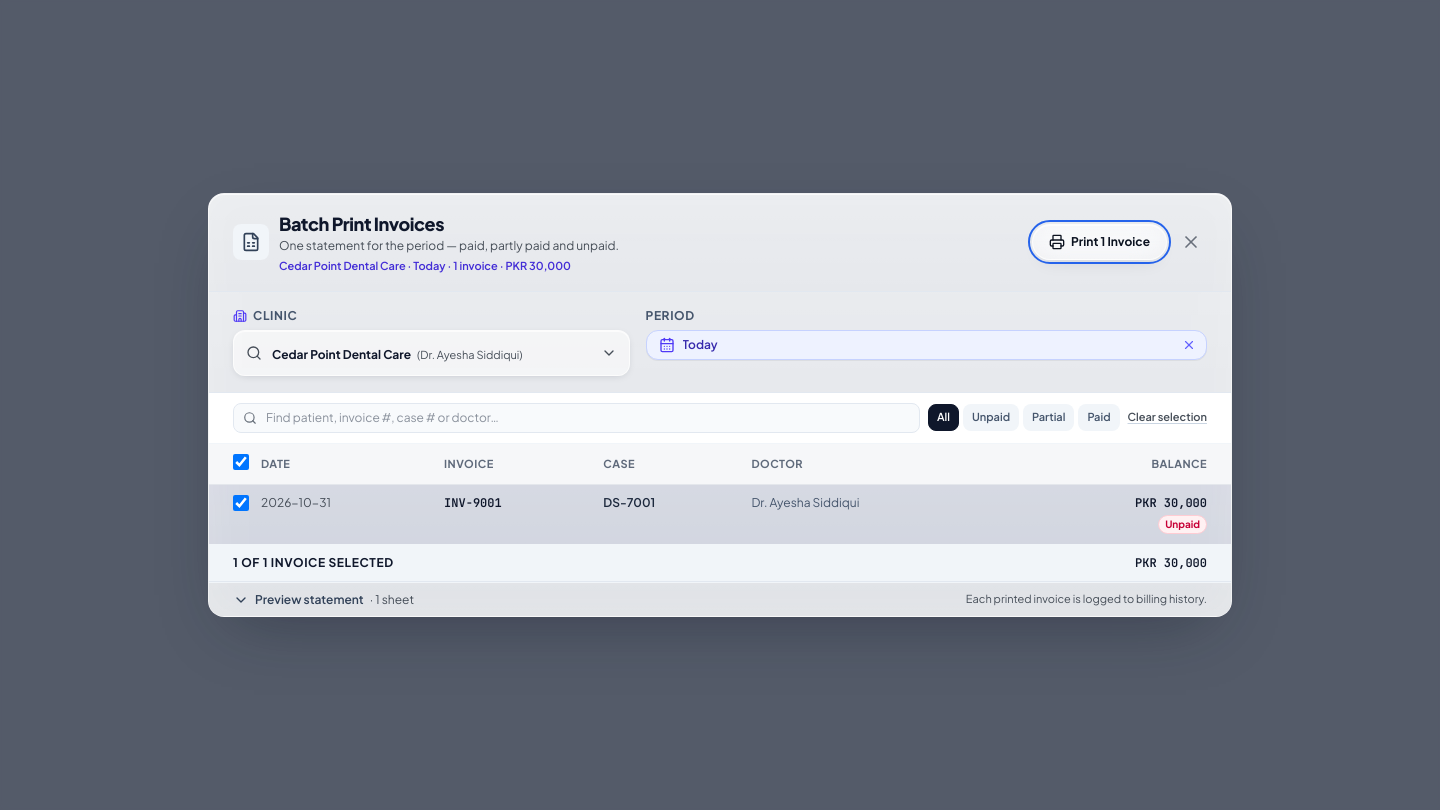
Test: BatchInvoicePrintModal clinic picker › says so when nothing matches, instead of showing an empty panel
Click the dropdown labelled "Cedar Point Dental Care(Dr. Ayesha Siddiqui)" at (431, 353), box [233,330,630,376]
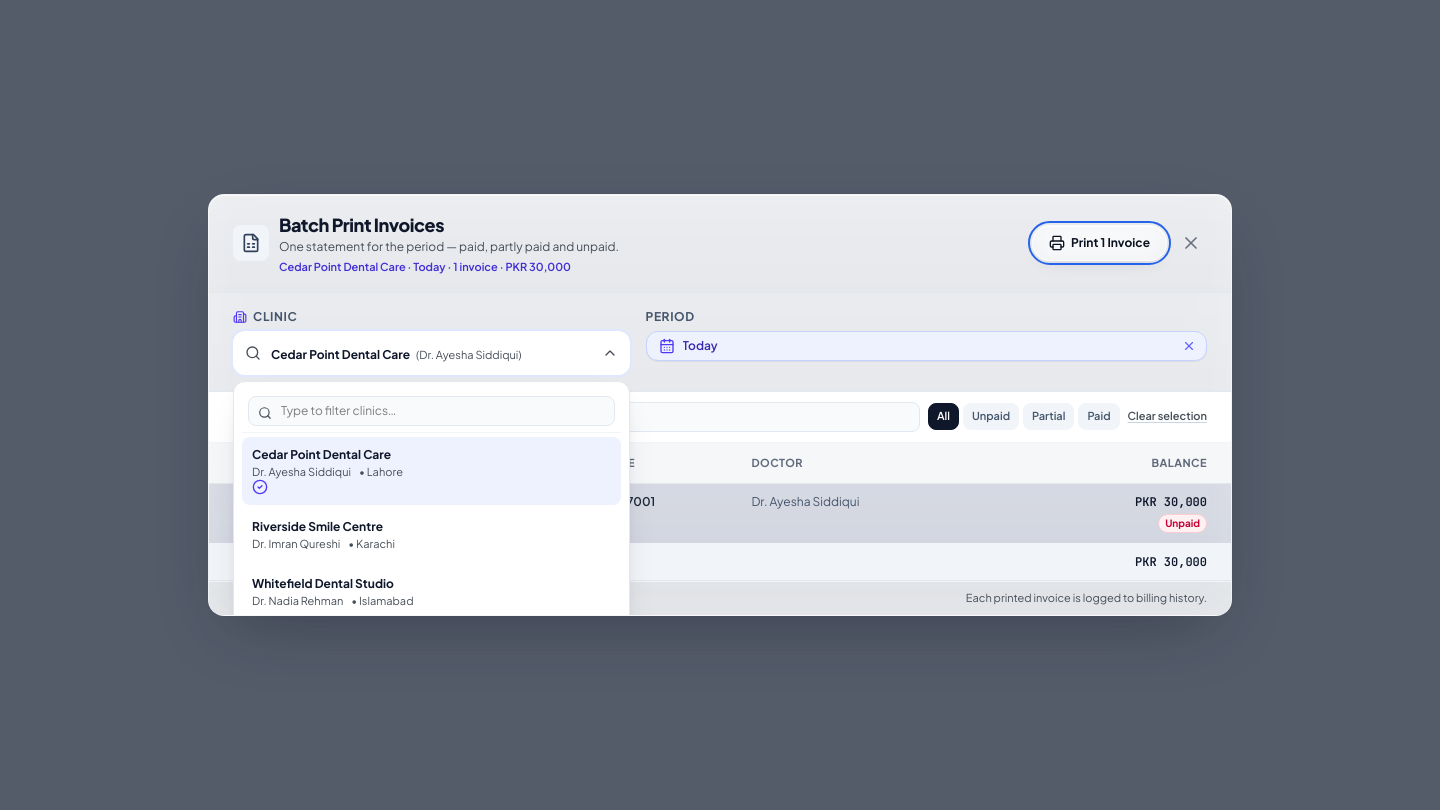
Type "zzzz" into the field with placeholder "Type to filter clinics…" at (431, 411), box [248,396,614,426]
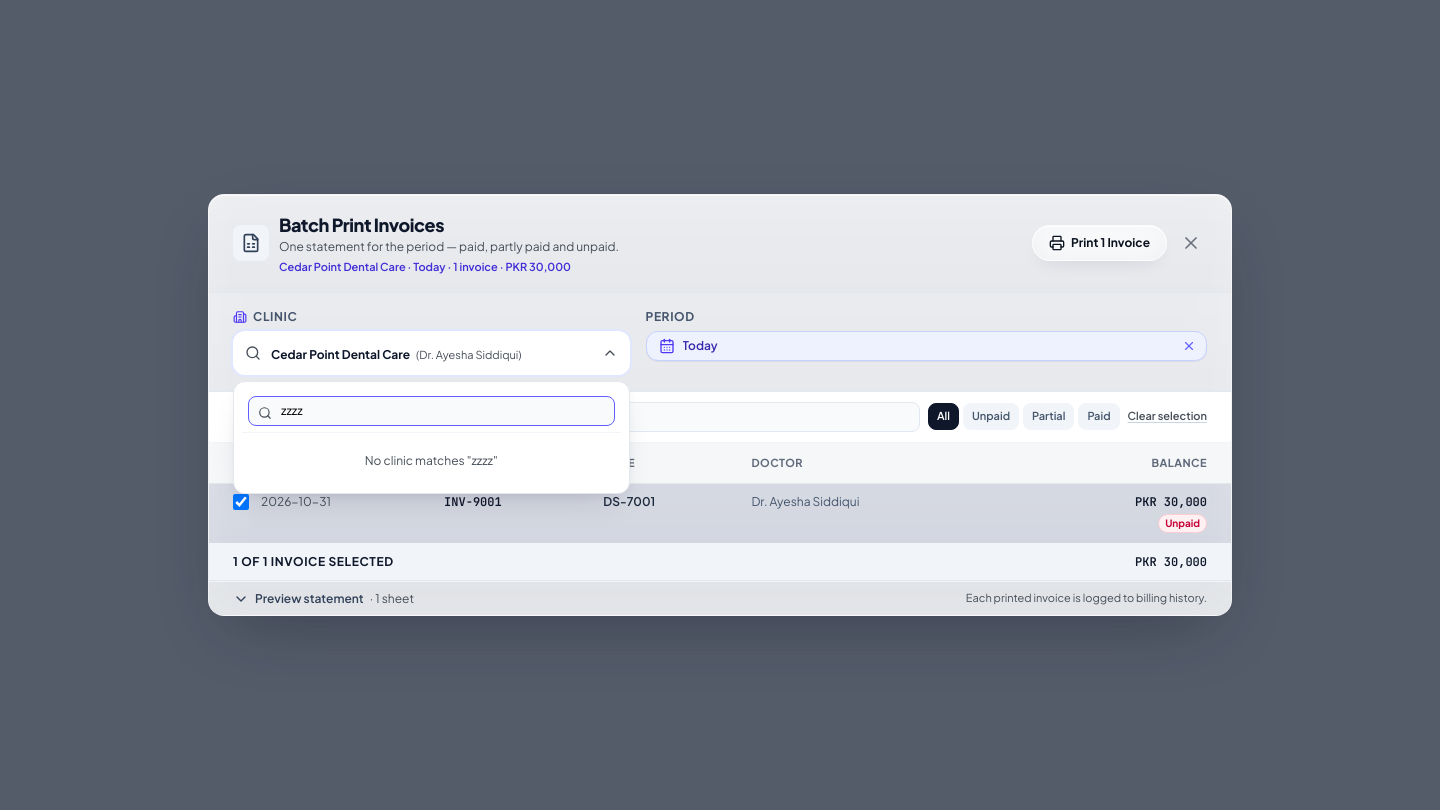
Now the text "No clinic matches \"zzzz\"" is shown, box [365,453,498,468]
